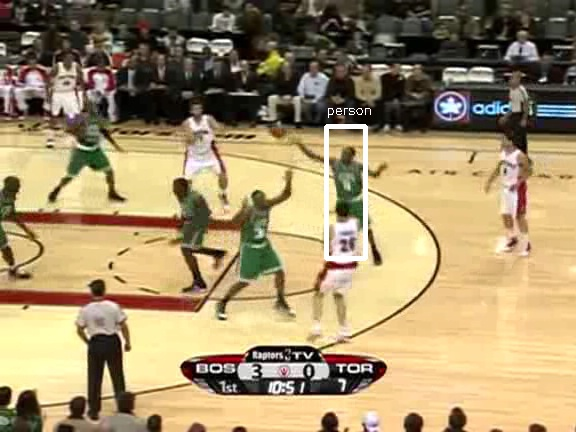person: (332, 153, 366, 234), (331, 153, 365, 234), (333, 153, 367, 234), (332, 152, 366, 233), (332, 154, 366, 235)
target_negative: (28, 9, 241, 288), (18, 206, 244, 383), (145, 77, 492, 173), (75, 408, 323, 431), (7, 194, 515, 199), (436, 88, 572, 104)
